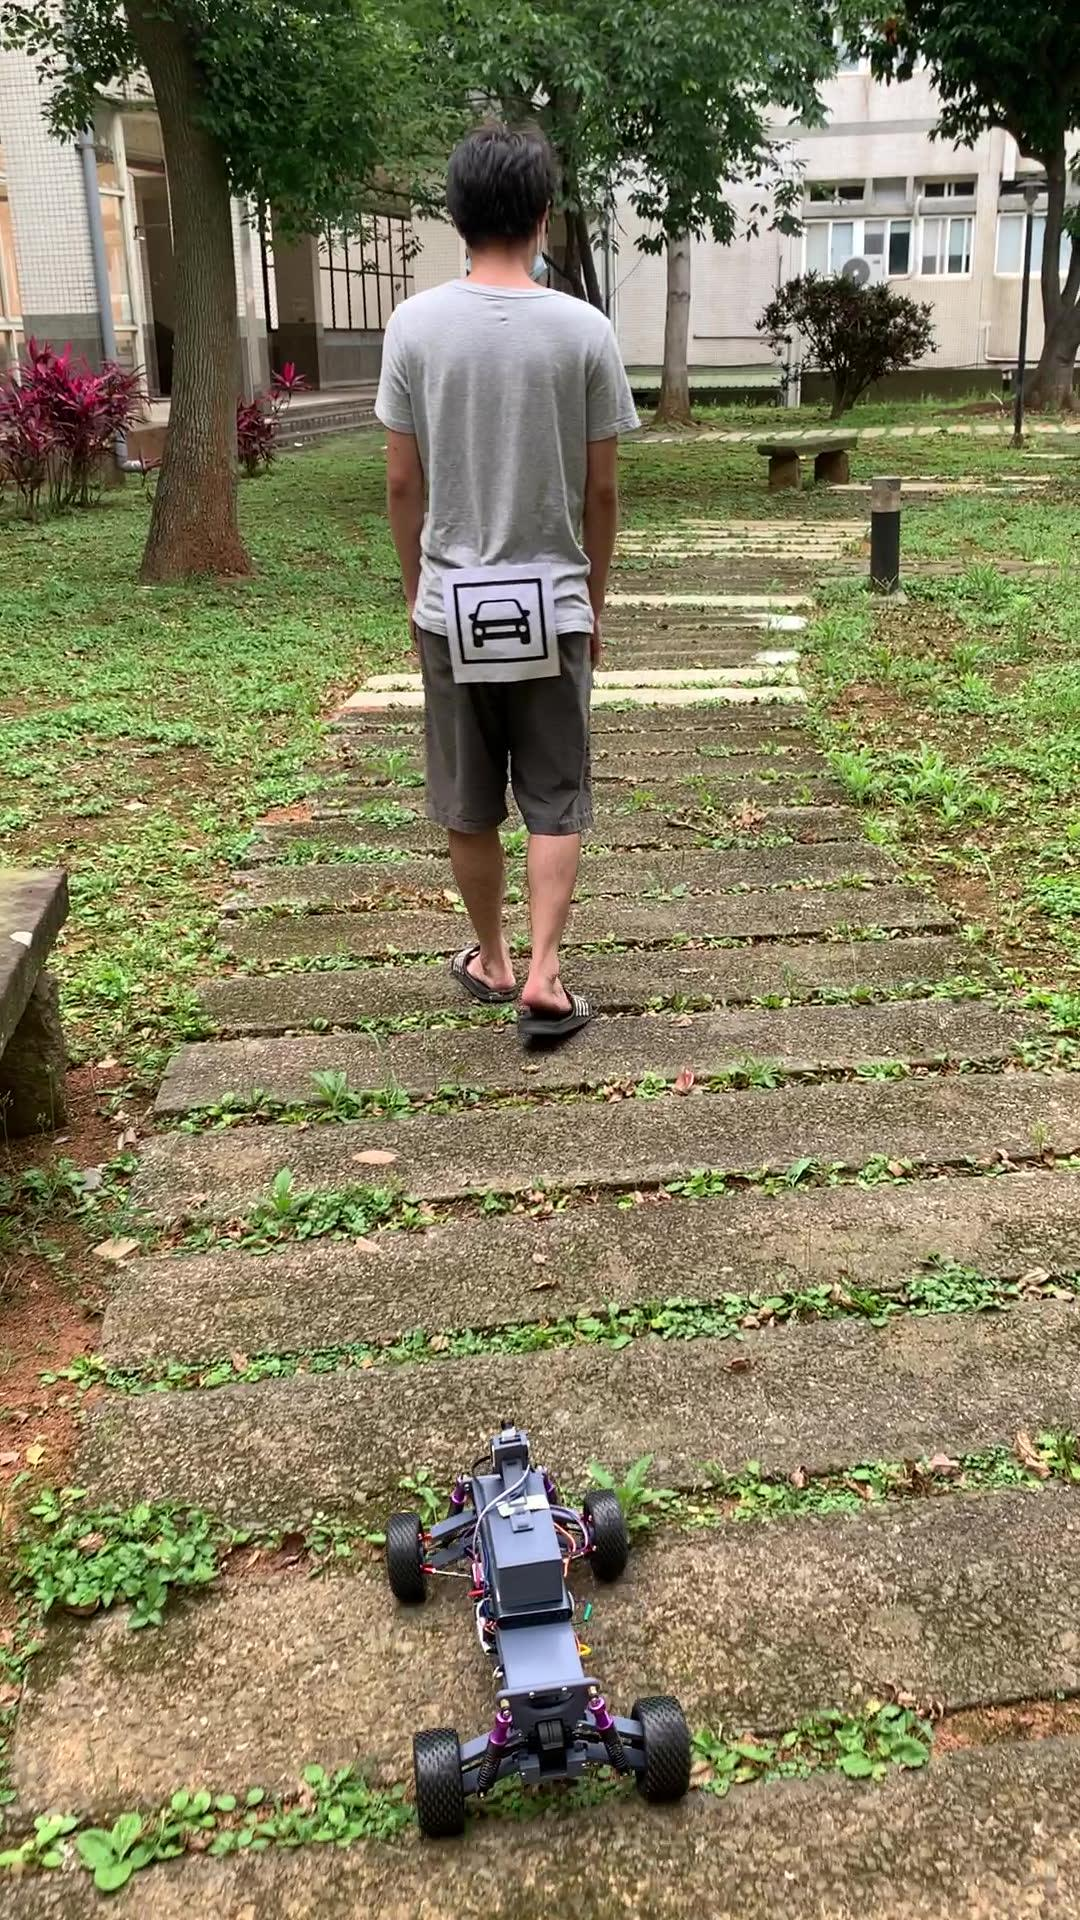car_img: (452, 578, 549, 665)
